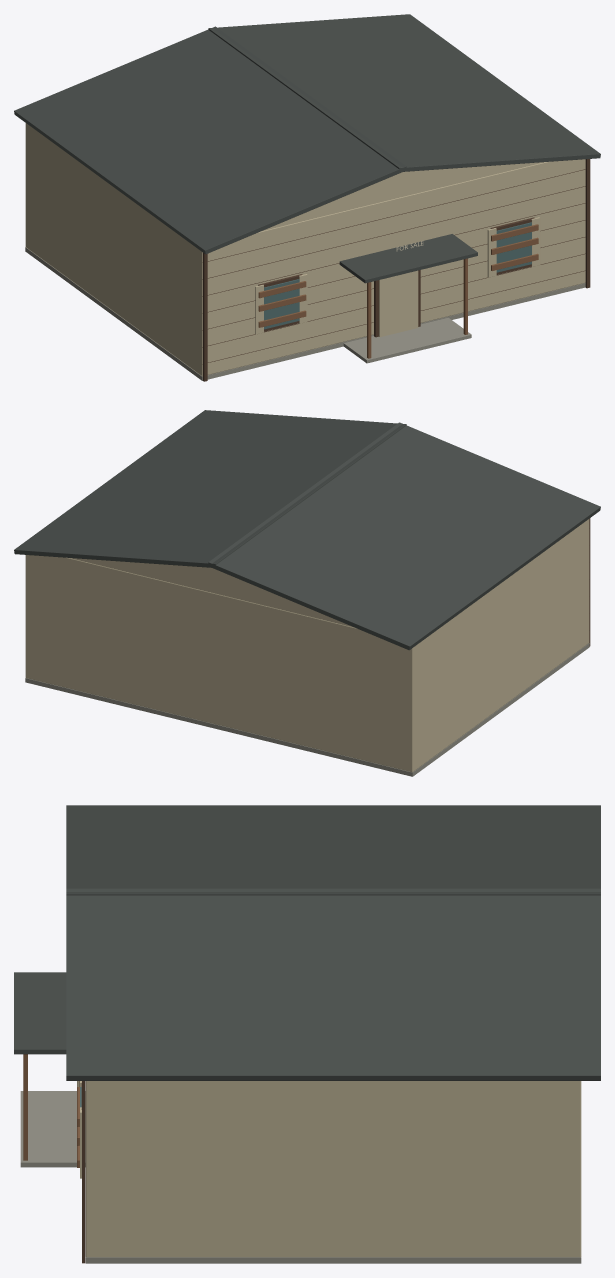
The model's file is env_house_boarded.gltf.
The picture shows the model from 3 angles, top to bottom: view 1: azimuth 30°, elevation 25°; view 2: azimuth 150°, elevation 25°; view 3: azimuth 270°, elevation 25°; orthographic projection. The views are drawn at different scales.
Visible parts, largest first — view 1: env_house_boarded__roof, env_house_boarded__paint_cream, env_house_boarded__concrete, env_house_boarded__wood_edge, env_house_boarded__wood, env_house_boarded__glass; view 2: env_house_boarded__roof, env_house_boarded__paint_cream, env_house_boarded__concrete; view 3: env_house_boarded__roof, env_house_boarded__paint_cream, env_house_boarded__concrete, env_house_boarded__wood, env_house_boarded__wood_edge.
Part boxes in pixels (left/top/right/bottom): env_house_boarded__roof: left=14, top=14, right=600, bottom=283; env_house_boarded__paint_cream: left=25, top=123, right=585, bottom=376; env_house_boarded__concrete: left=25, top=247, right=585, bottom=380; env_house_boarded__wood_edge: left=202, top=159, right=590, bottom=381; env_house_boarded__wood: left=258, top=224, right=538, bottom=358; env_house_boarded__glass: left=264, top=222, right=531, bottom=329; env_house_boarded__roof: left=14, top=410, right=600, bottom=650; env_house_boarded__paint_cream: left=25, top=519, right=589, bottom=772; env_house_boarded__concrete: left=25, top=643, right=589, bottom=776; env_house_boarded__roof: left=14, top=805, right=600, bottom=1080; env_house_boarded__paint_cream: left=77, top=1081, right=581, bottom=1257; env_house_boarded__concrete: left=20, top=1091, right=581, bottom=1263; env_house_boarded__wood: left=23, top=1054, right=79, bottom=1167; env_house_boarded__wood_edge: left=79, top=1081, right=85, bottom=1263.
Bounding box in the file's own units: 49.06 × 20.33 × 45.
